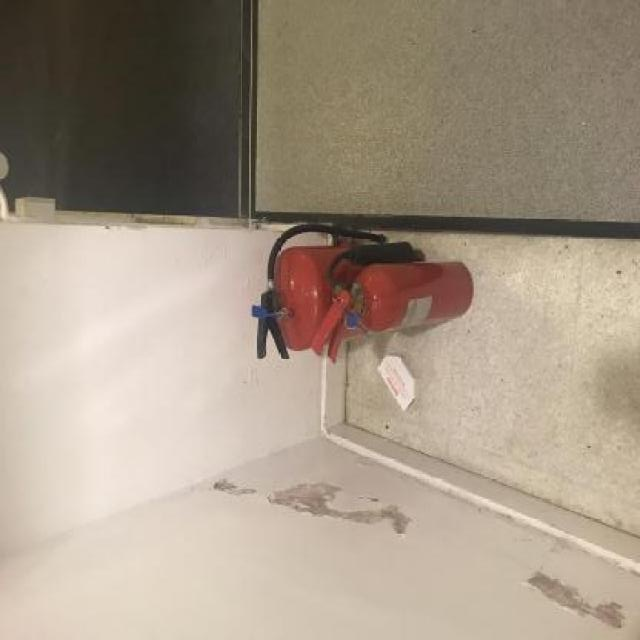fire extinguisher: (309, 240, 475, 362), (250, 223, 385, 362)
